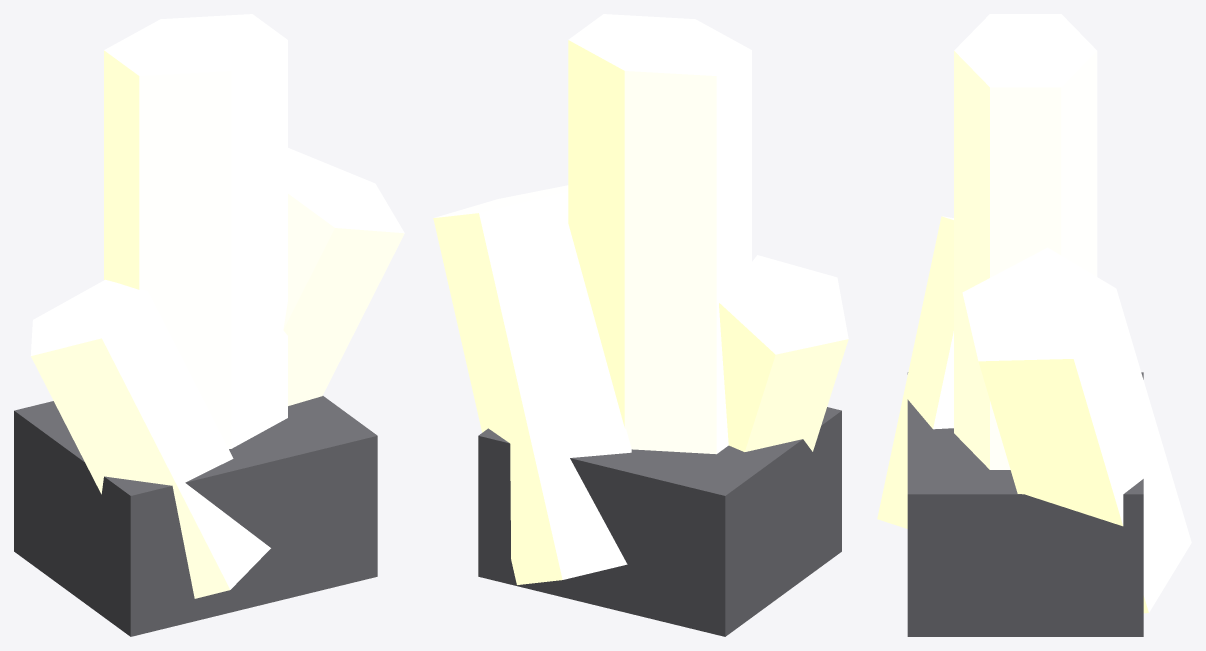
The model's file is BoneAshMarrowShard.glb.
The picture shows the model from 3 angles, left to right: view 1: azimuth 30°, elevation 25°; view 2: azimuth 150°, elevation 25°; view 3: azimuth 270°, elevation 25°; orthographic projection.
Visible parts, largest first — view 1: BoneAshMarrowShard; view 2: BoneAshMarrowShard; view 3: BoneAshMarrowShard.
Boxes of the visible parts, left/top/right/bottom form: BoneAshMarrowShard: left=14, top=14, right=404, bottom=636; BoneAshMarrowShard: left=433, top=14, right=848, bottom=636; BoneAshMarrowShard: left=877, top=14, right=1191, bottom=636.
Bounding box in the file's own units: 1.86 × 2.47 × 1.32.
